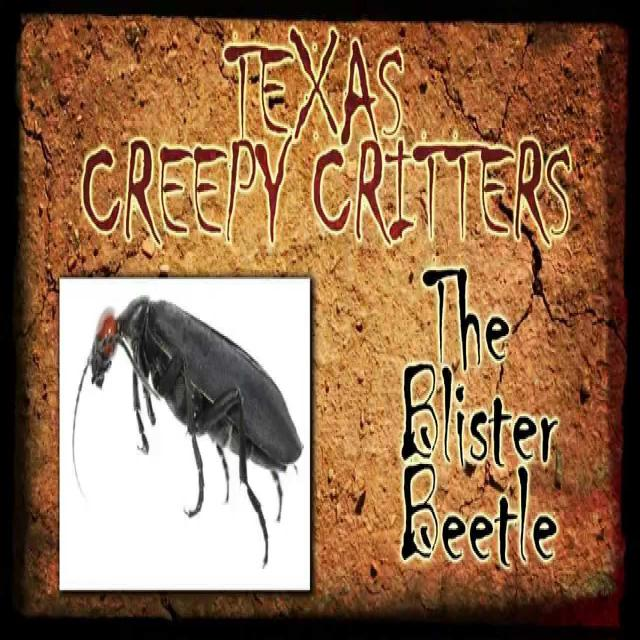BlisterBeetle-Adult-: (76, 279, 304, 554)
